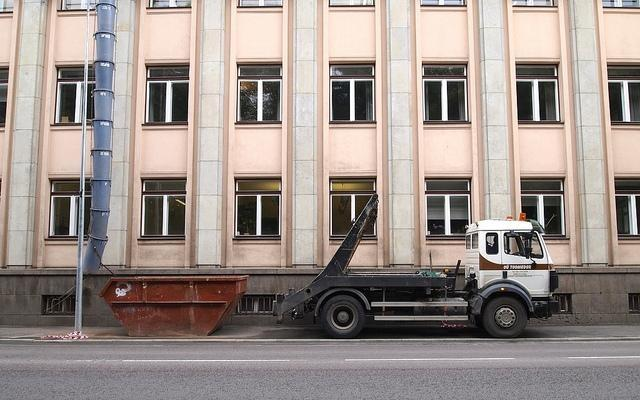truck: (276, 196, 560, 338)
